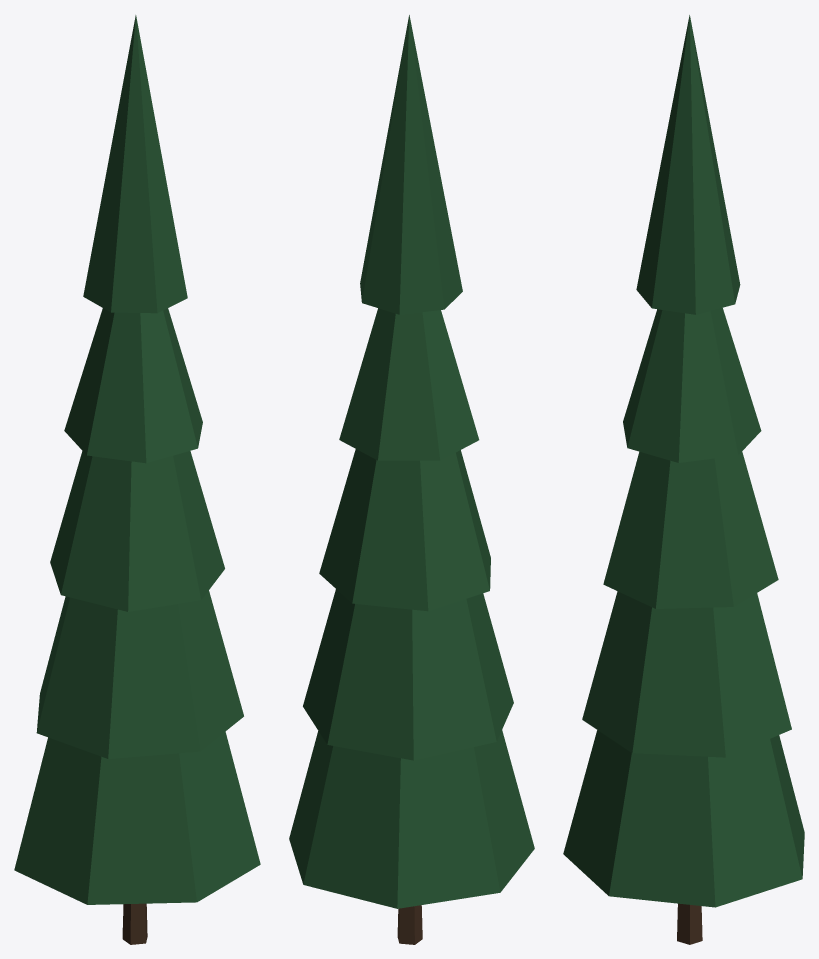
File: epicea.glb
The picture shows the model from 3 angles, left to right: view 1: azimuth 30°, elevation 25°; view 2: azimuth 150°, elevation 25°; view 3: azimuth 270°, elevation 25°; orthographic projection.
Visible parts, largest first — view 1: epicea; view 2: epicea; view 3: epicea.
Boxes of the visible parts, <box> form: epicea: <box>14,15,260,944</box>; epicea: <box>289,15,534,944</box>; epicea: <box>563,15,804,944</box>.
Bounding box in the file's own units: 5.85 × 24.2 × 5.73.
1 material, 1 textured.
